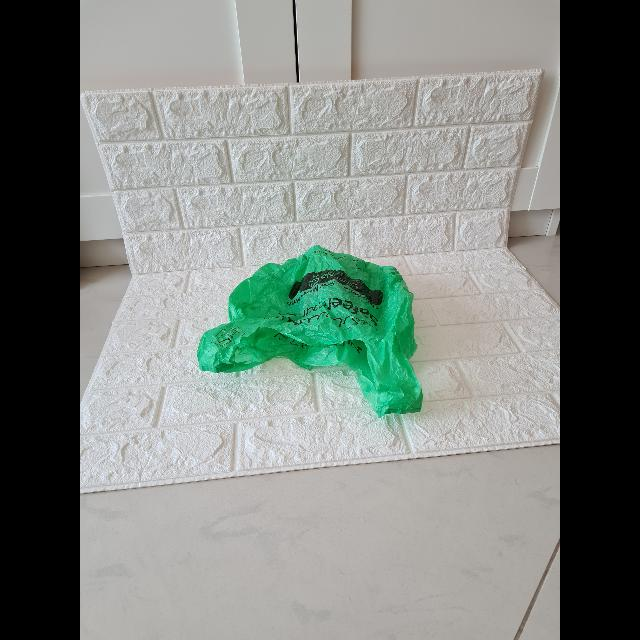plastic_bag: (197, 242, 426, 418)
